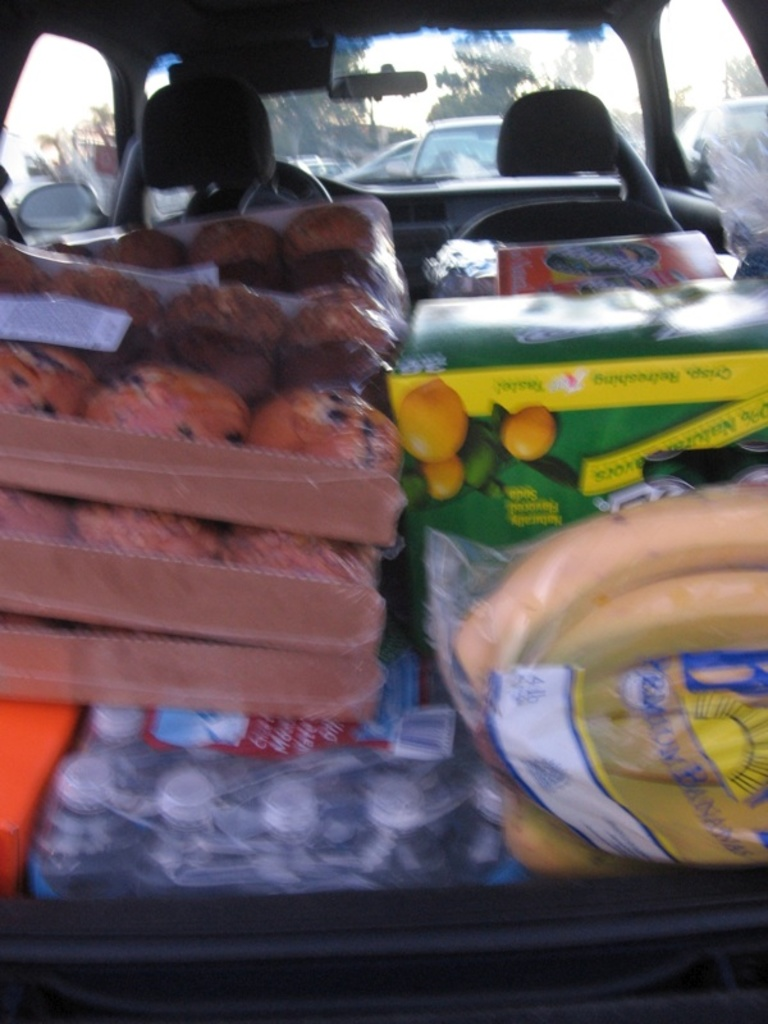cars: (120, 16, 757, 991)
